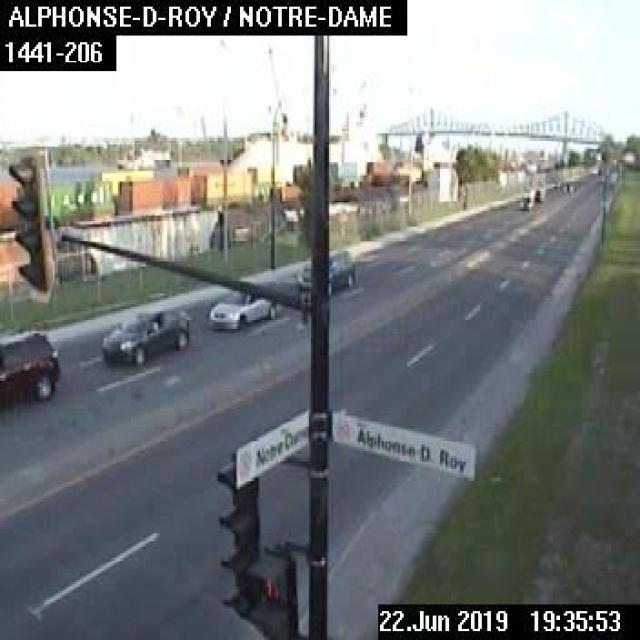vehicle: (98, 302, 191, 364), (0, 322, 60, 407), (209, 289, 275, 331), (292, 247, 354, 291)
